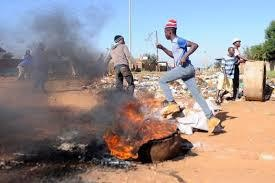fire: (101, 93, 178, 160)
